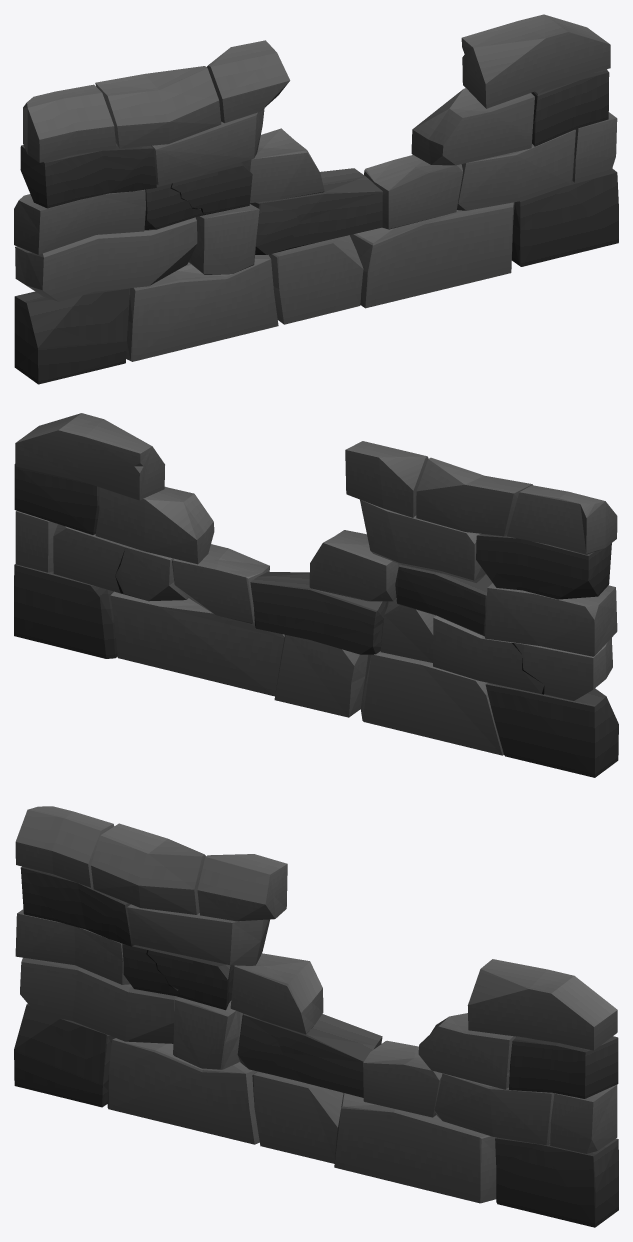
Rendered from muro_ruina.glb.
3 renders of one model, top to bottom at view 1: azimuth 30°, elevation 25°; view 2: azimuth 150°, elevation 25°; view 3: azimuth 330°, elevation 25°, orthographic.
Visible parts, largest first — view 1: RuinedWallA; view 2: RuinedWallA; view 3: RuinedWallA.
Boxes of the visible parts, x1=… form: RuinedWallA: x1=14, y1=14, x2=618, y2=384; RuinedWallA: x1=14, y1=413, x2=618, y2=777; RuinedWallA: x1=14, y1=806, x2=618, y2=1227.
Bounding box in the file's own units: 7.18 × 3.18 × 0.6841.
1 material, 1 textured.
